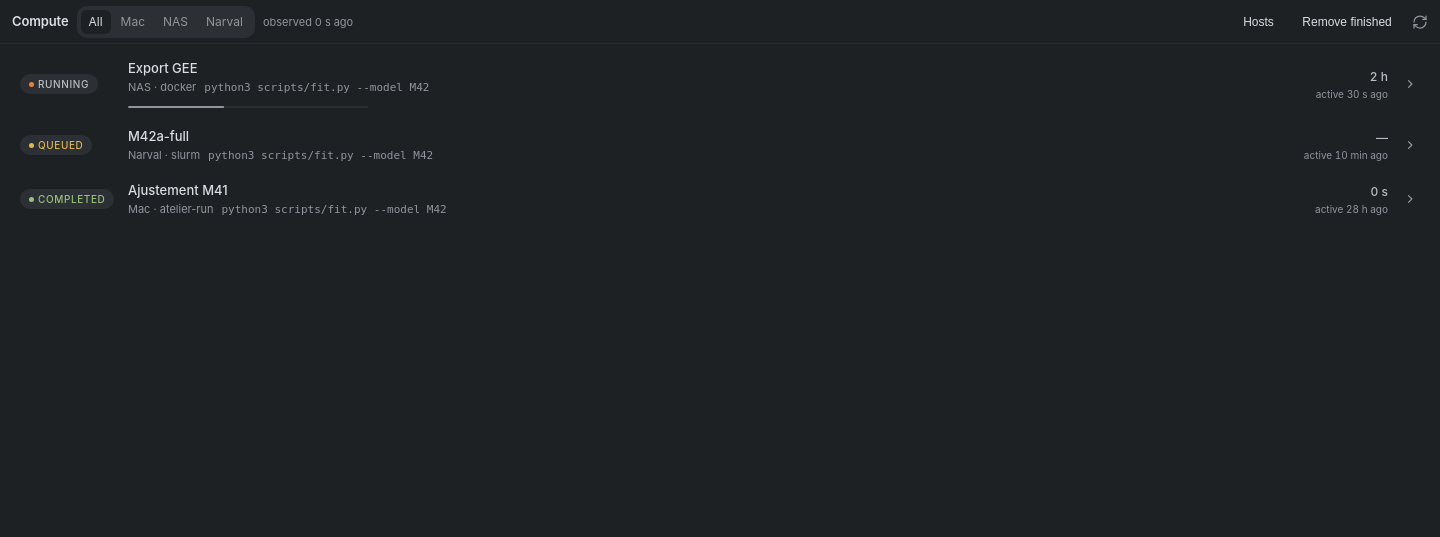
Scenario: CalculsSurface › retirer les runs terminés › « Retirer » n'apparaît que sur les runs terminés/échoués/inconnus
Click the button with class "calculs-run-head" that starts with "running".
click(59, 84)  # box left=8, top=52, right=1432, bottom=116
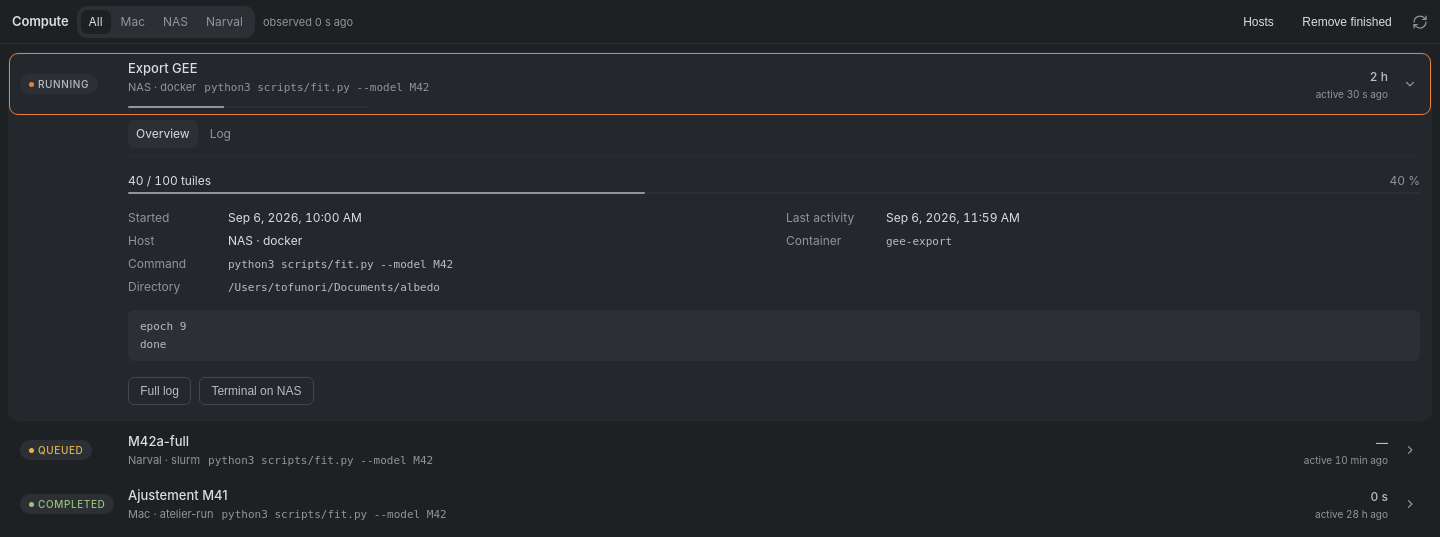
Click the button with class "calculs-run-head" that starts with "queued".
click(56, 450)  # box left=8, top=425, right=1432, bottom=475
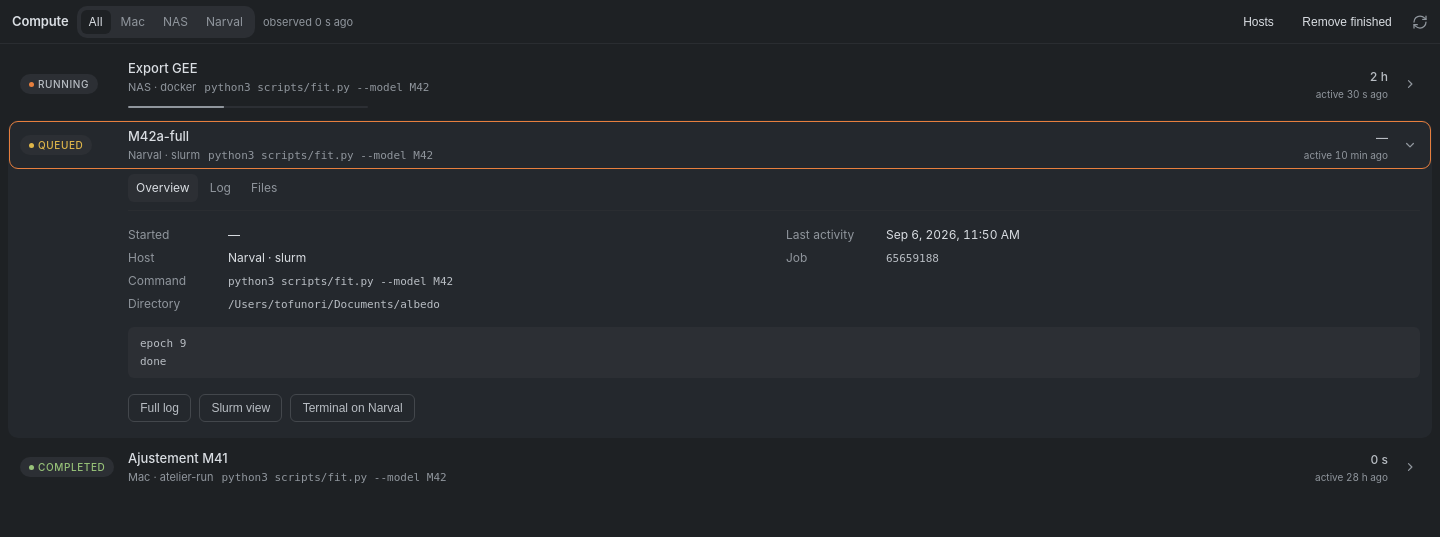
Click the button with class "calculs-run-head" that starts with "completed".
click(67, 467)  # box left=8, top=442, right=1432, bottom=492
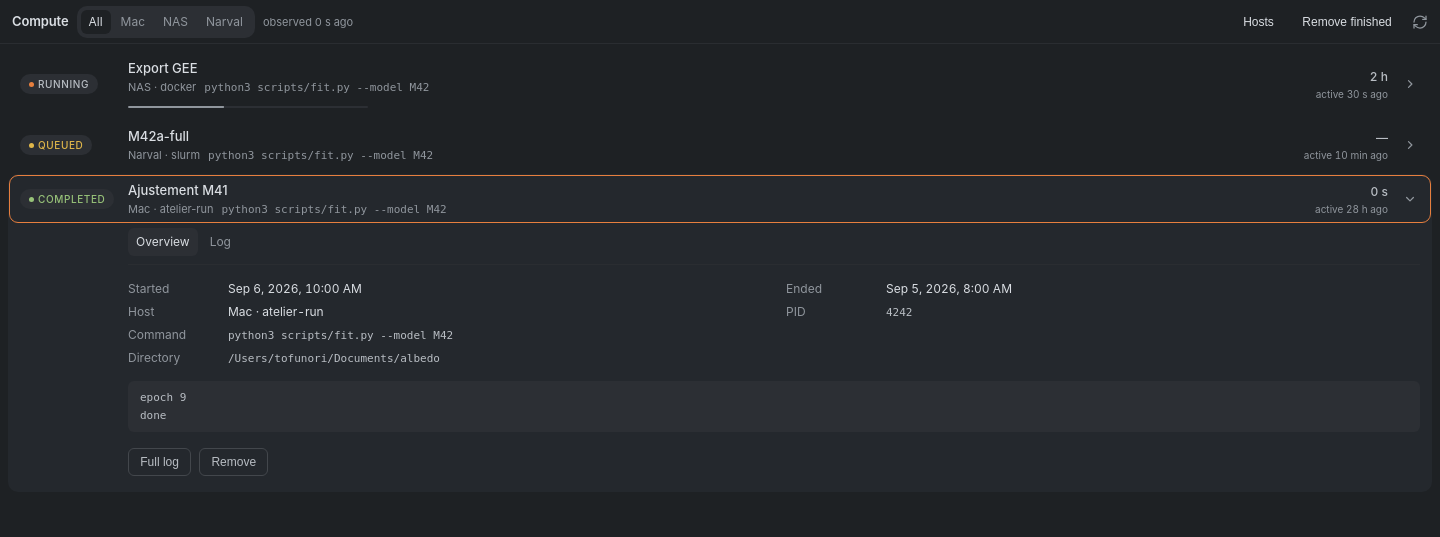
Expected: the button "Remove" is shown, left=199, top=448, right=268, bottom=476
